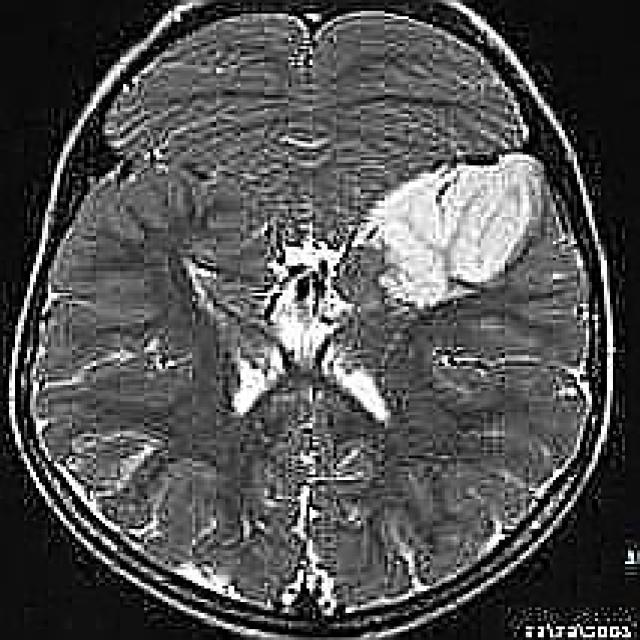Tumor-Cell: (368, 141, 556, 318)
